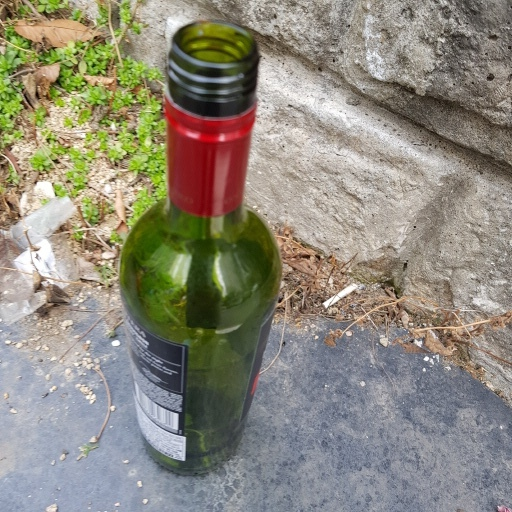Glass_2: (118, 19, 282, 483)
